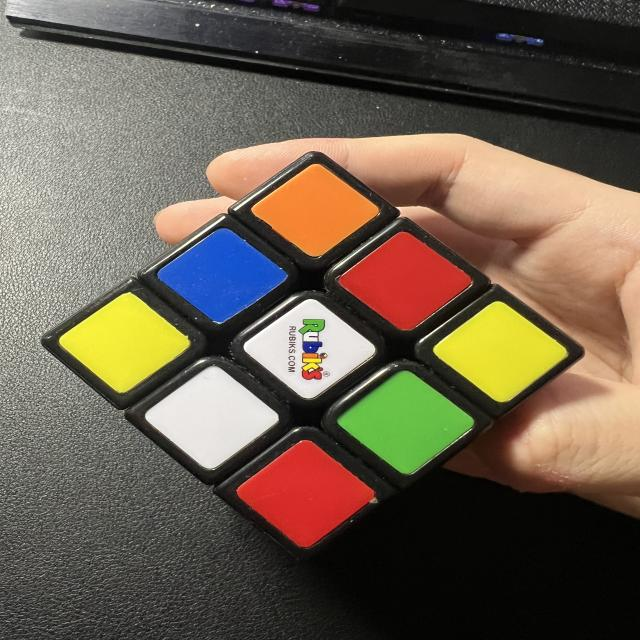blue: (151, 206, 295, 341)
center: (239, 280, 380, 414)
green: (335, 355, 474, 491)
orange: (249, 148, 380, 274)
red: (231, 420, 381, 564), (335, 212, 476, 348)
white: (140, 347, 283, 482)
yellow: (432, 283, 571, 416), (54, 278, 193, 406)
